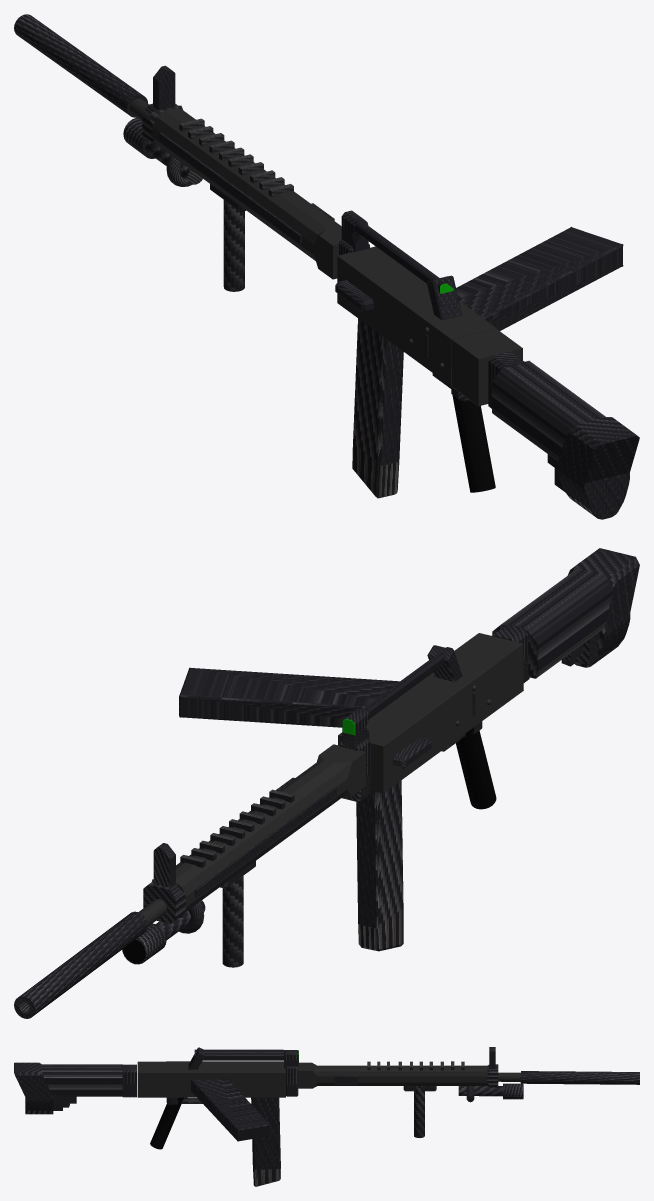
Rendered from carbon assult rifle.fbx.
The picture shows the model from 3 angles, top to bottom: view 1: azimuth 30°, elevation 25°; view 2: azimuth 150°, elevation 25°; view 3: azimuth 270°, elevation 25°; orthographic projection. The views are drawn at different scales.
Visible parts, largest first — view 1: polySurface58; view 2: polySurface58; view 3: polySurface58.
Part boxes in pixels (box(x1,y1,x2,y2)): polySurface58: box(14, 14, 639, 519); polySurface58: box(14, 548, 639, 1018); polySurface58: box(14, 1047, 639, 1186).
Size of the model in its own units: 0.0549 by 0.0546 by 0.2236.
Materials: 30 (21 with a texture image).
